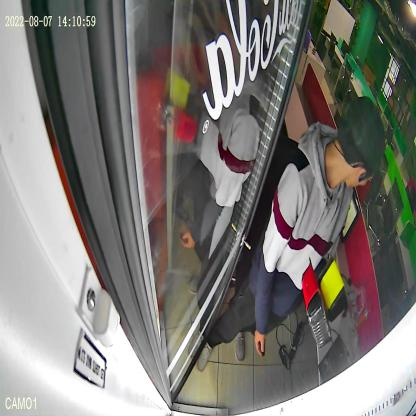red: (302, 256, 334, 348)
yellow: (317, 253, 349, 323)
